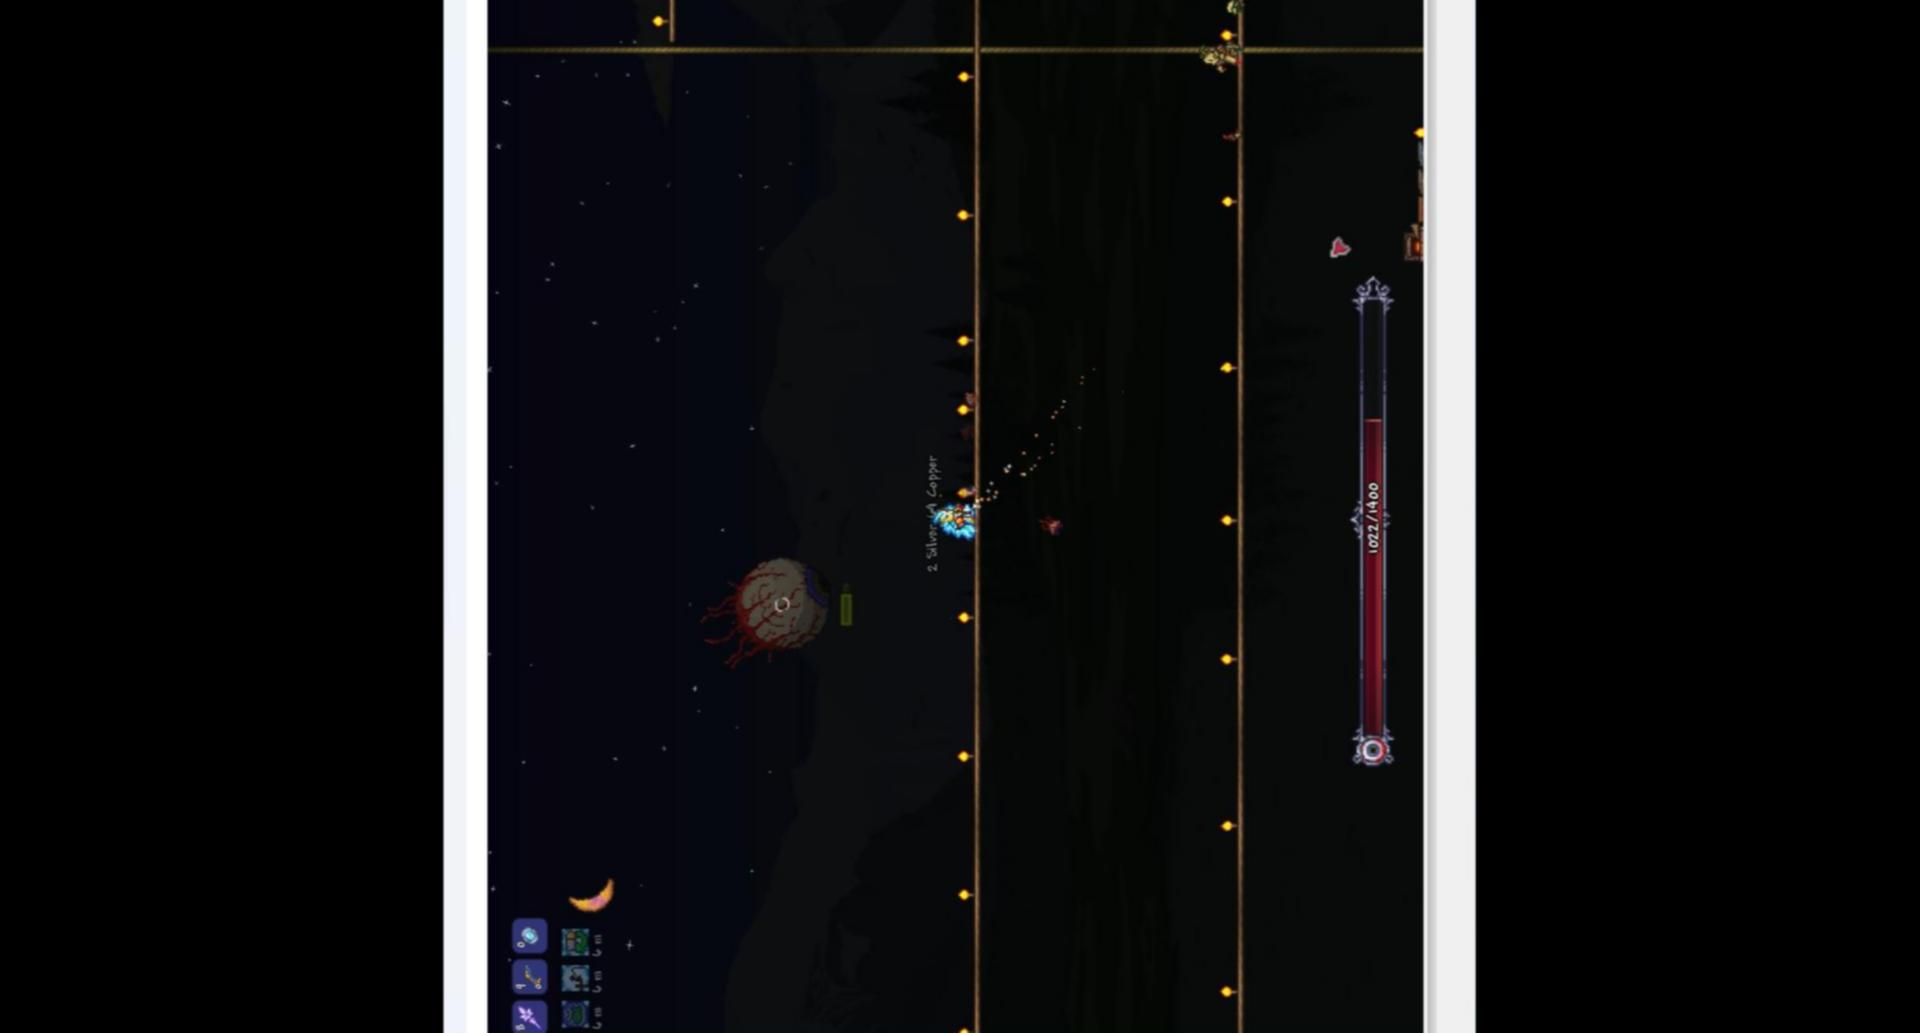eyeC: (699, 548, 834, 673)
